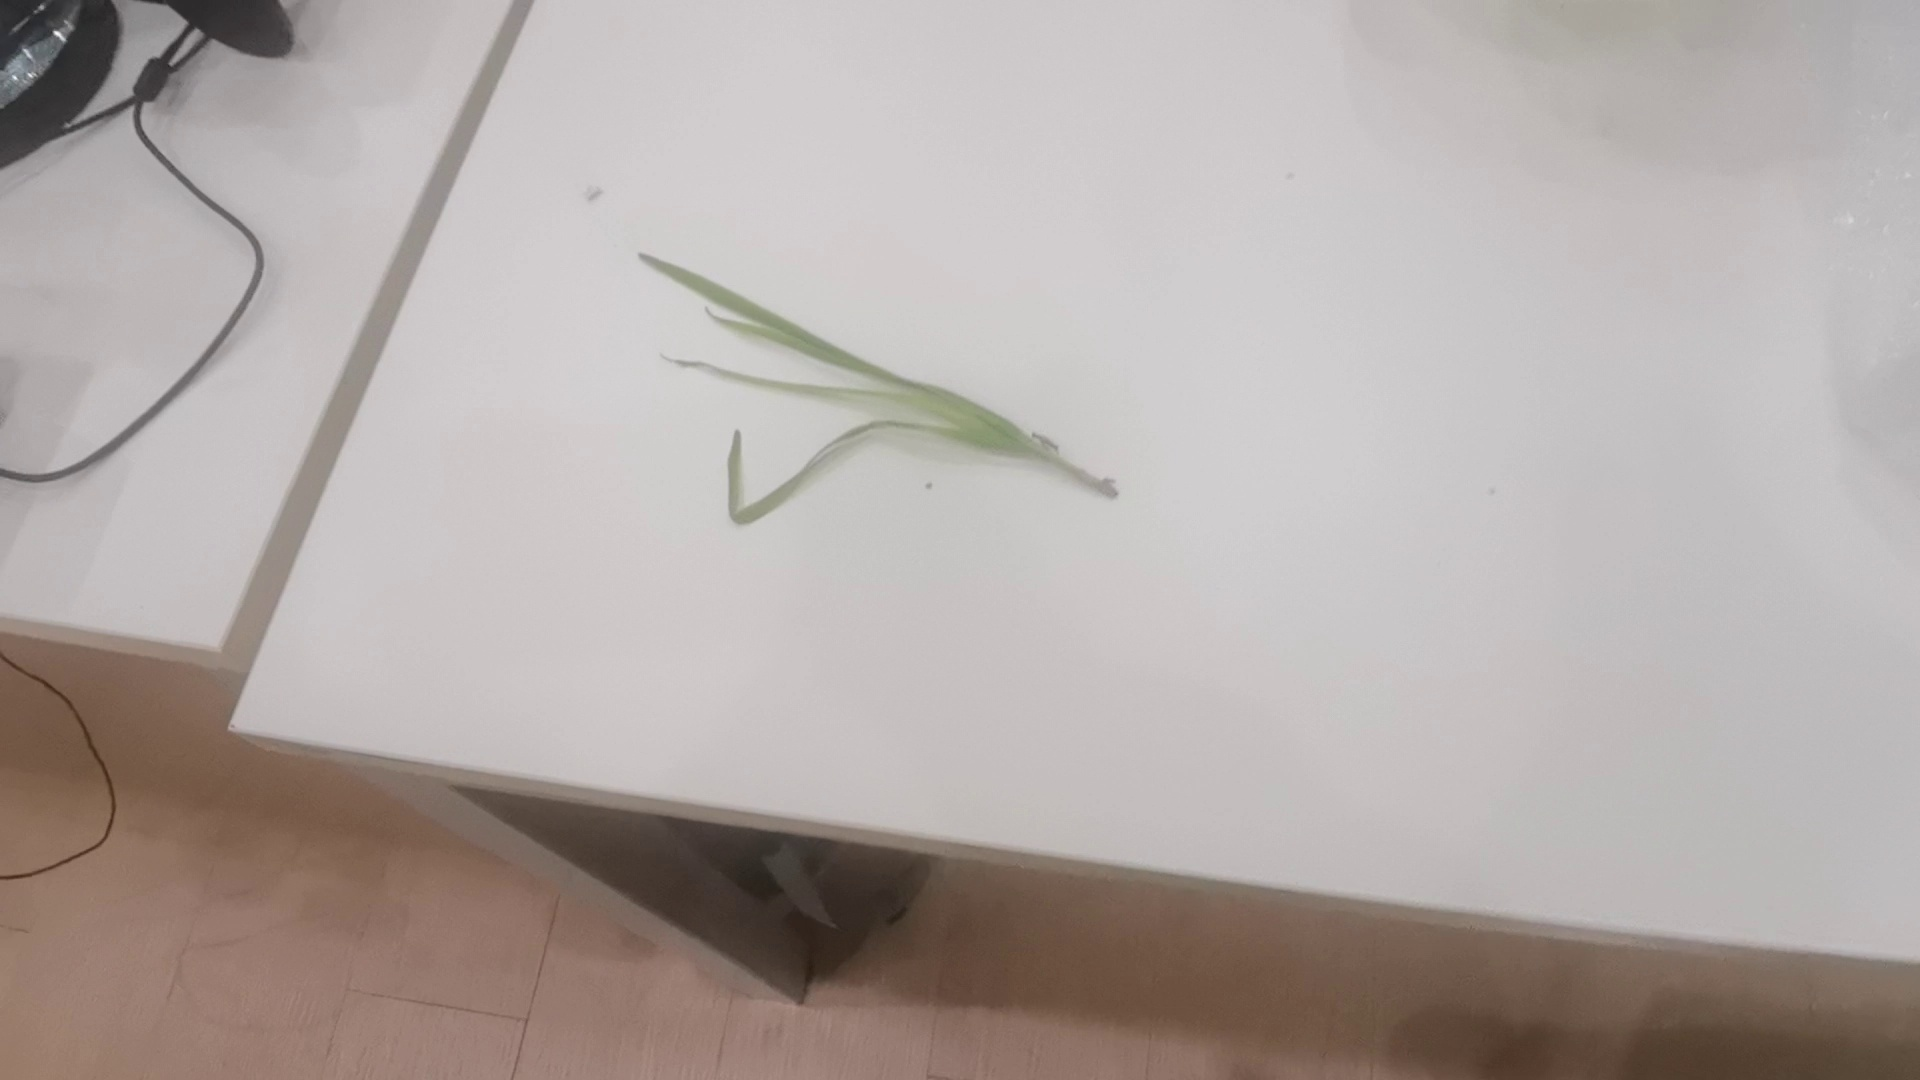chives: (638, 252, 1122, 535)
